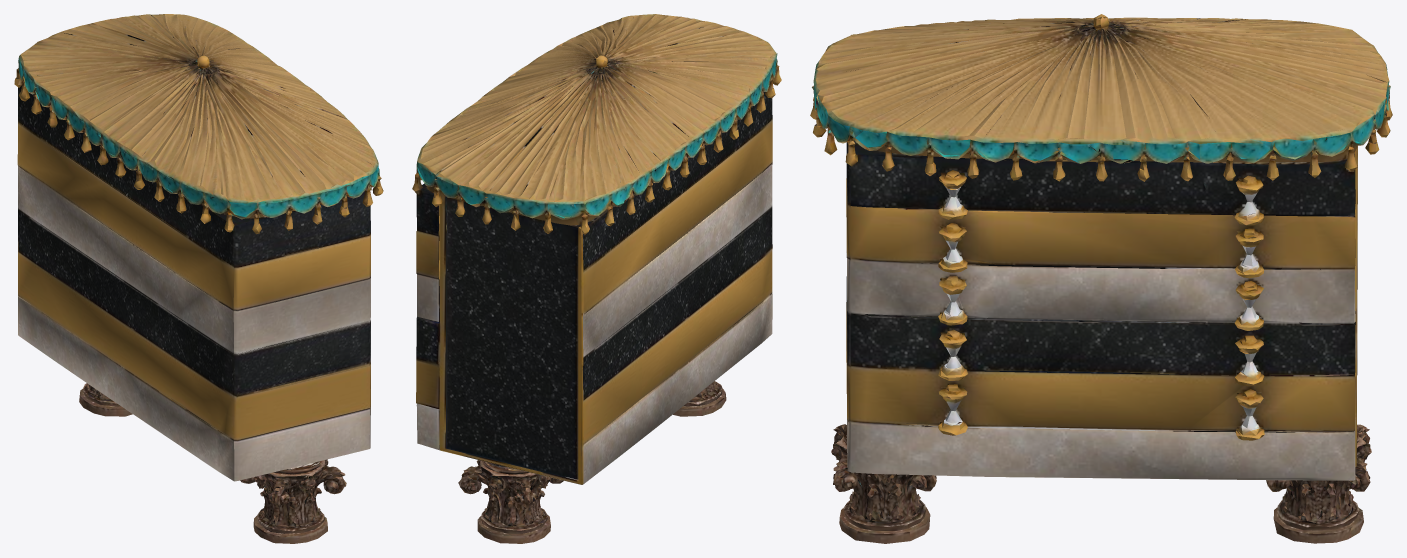
File: TH-03_dresser_game.glb
The picture shows the model from 3 angles, left to right: view 1: azimuth 30°, elevation 25°; view 2: azimuth 150°, elevation 25°; view 3: azimuth 270°, elevation 25°; orthographic projection. The views are drawn at different scales.
Parts seen in each view (by area): view 1: TH-03_dresser; view 2: TH-03_dresser; view 3: TH-03_dresser.
Boxes of the visible parts, x1,y1,x2,y2 form: TH-03_dresser: (14,14,383,543); TH-03_dresser: (412,14,781,543); TH-03_dresser: (810,14,1392,543).
Size of the model in its own units: 0.472 by 0.8802 by 0.912.
Materials: 1 (1 with a texture image).
